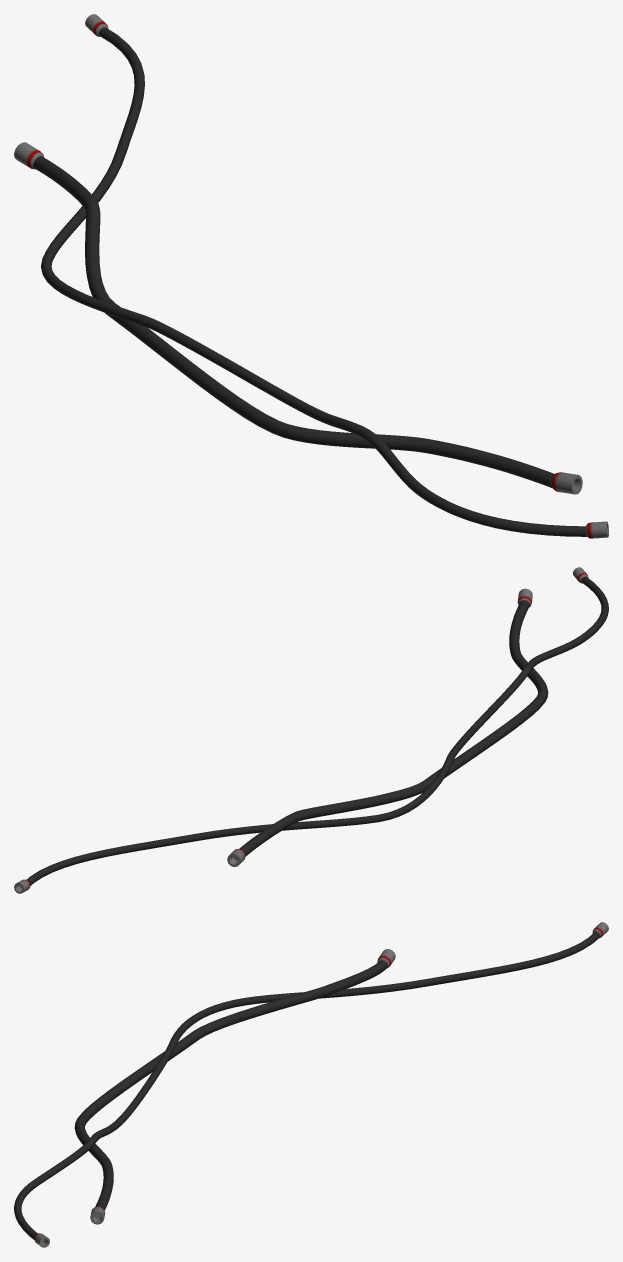
The model's file is cable-2.glb.
3 views of the same model, one above another, from view 1: azimuth 30°, elevation 25°; view 2: azimuth 150°, elevation 25°; view 3: azimuth 330°, elevation 25° (orthographic). The views are drawn at different scales.
Visible parts, largest first — view 1: Prop_Cable_3; view 2: Prop_Cable_3; view 3: Prop_Cable_3.
Part boxes in pixels (x1,y1,x2,y2): Prop_Cable_3: (14, 14, 608, 538); Prop_Cable_3: (14, 567, 608, 893); Prop_Cable_3: (14, 922, 608, 1247).
Size of the model in its own units: 1.56 by 0.1171 by 5.73.
2 materials, 2 textured.
